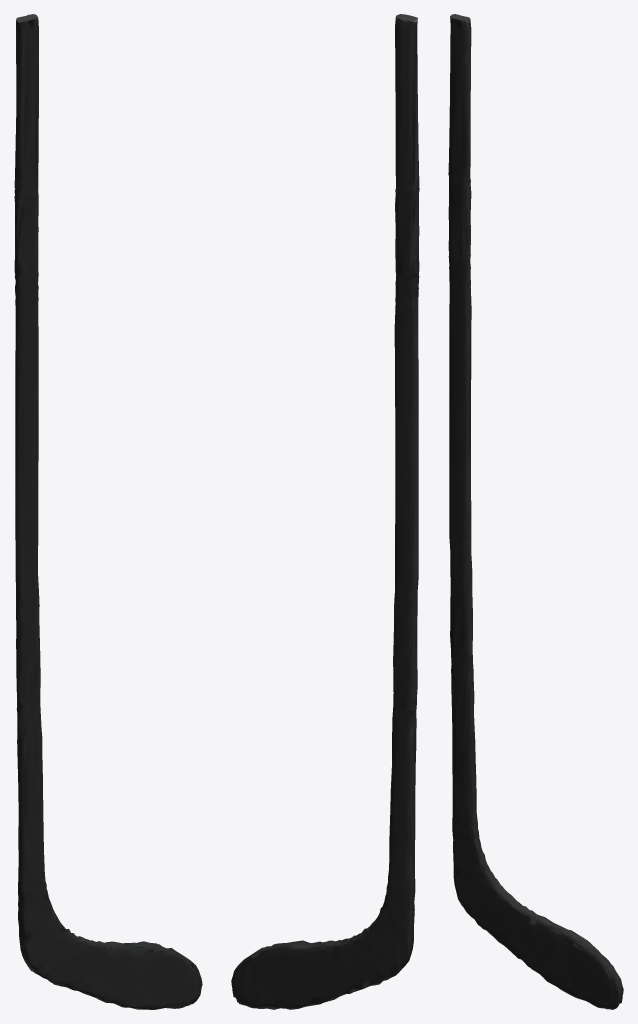
File: Meshy_Hockey_Stick_Base_v1.fbx
3 renders of one model, left to right at view 1: azimuth 30°, elevation 25°; view 2: azimuth 150°, elevation 25°; view 3: azimuth 330°, elevation 25°, orthographic. The views are drawn at different scales.
Visible parts, largest first — view 1: mesh_node; view 2: mesh_node; view 3: mesh_node.
Part boxes in pixels (bbox=[...]): mesh_node: bbox=[14, 14, 202, 1009]; mesh_node: bbox=[231, 14, 419, 1009]; mesh_node: bbox=[448, 14, 623, 1009].
Bounding box in the file's own units: 18.95 × 100 × 1.38.
Materials: 1 (1 with a texture image).
